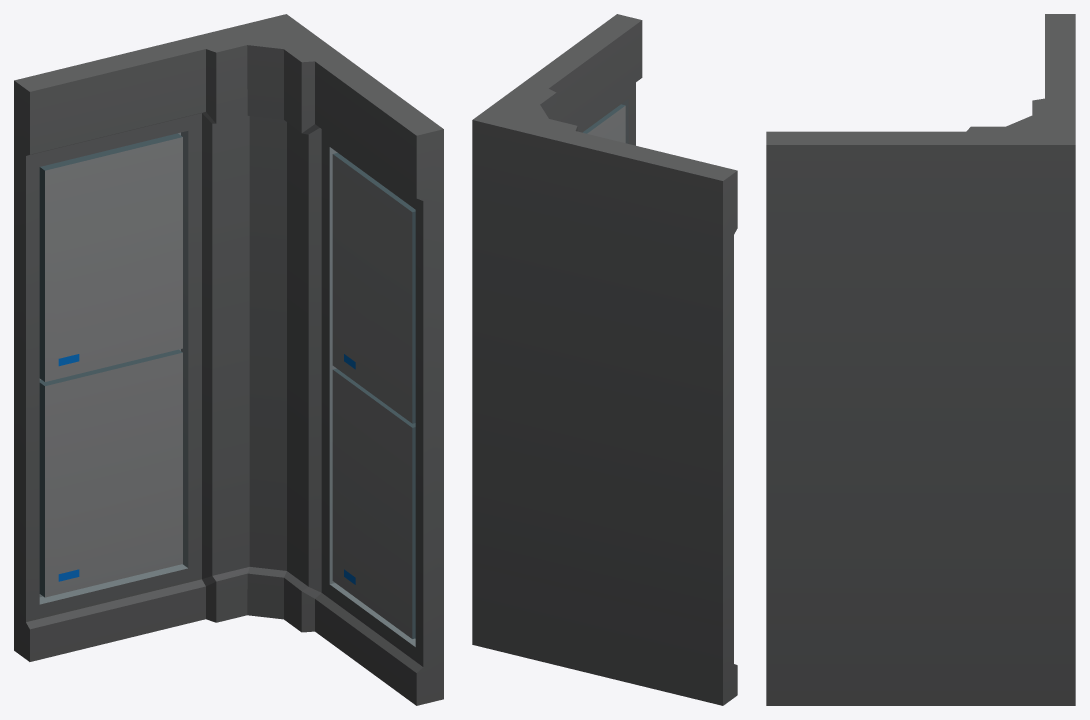
File: Wall_type_B_012.fbx
The picture shows the model from 3 angles, left to right: view 1: azimuth 30°, elevation 25°; view 2: azimuth 150°, elevation 25°; view 3: azimuth 270°, elevation 25°; orthographic projection. The views are drawn at different scales.
Parts seen in each view (by area): view 1: Wall_type_B_012; view 2: Wall_type_B_012; view 3: Wall_type_B_012.
Part boxes in pixels (<box>): Wall_type_B_012: <box>14,14,443,705</box>; Wall_type_B_012: <box>472,14,737,705</box>; Wall_type_B_012: <box>766,14,1075,705</box>.
Size of the model in its own units: 200 by 200 by 400.
